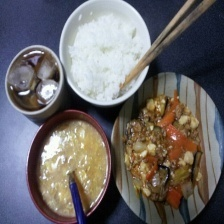dal: (32, 118, 109, 219)
